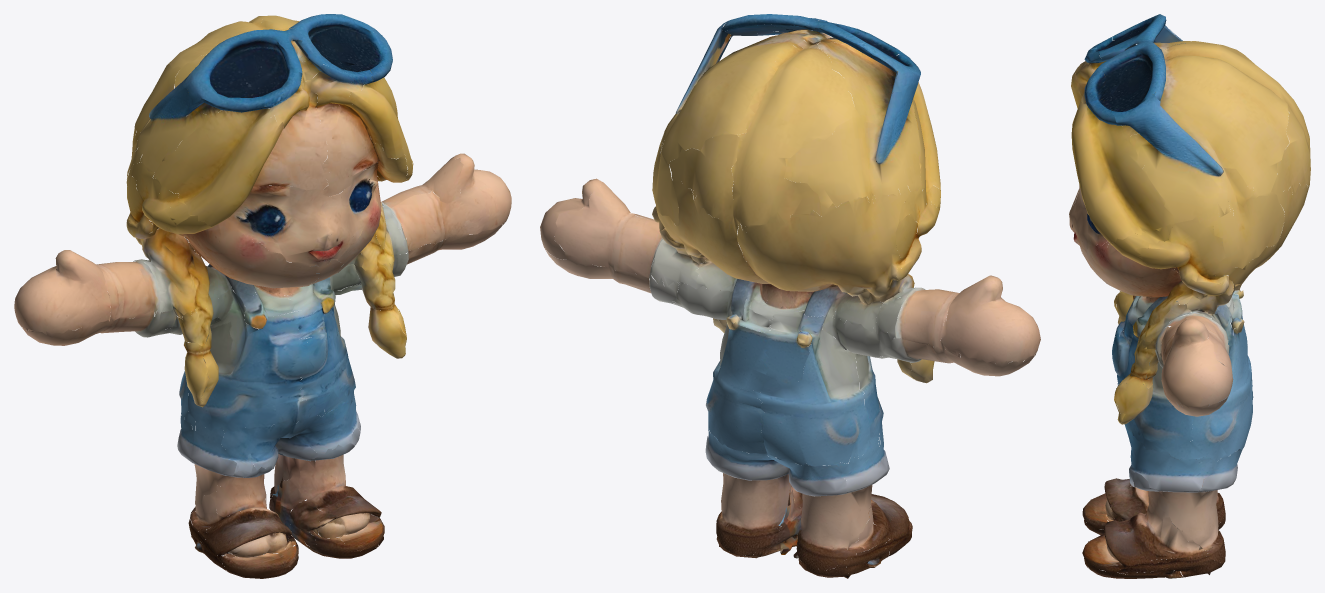
File: kristen.glb
3 views of the same model, side by side, from view 1: azimuth 30°, elevation 25°; view 2: azimuth 150°, elevation 25°; view 3: azimuth 270°, elevation 25° (orthographic). The views are drawn at different scales.
Visible parts, largest first — view 1: kristen; view 2: kristen; view 3: kristen.
Part boxes in pixels (<box>): kristen: <box>14,14,511,578</box>; kristen: <box>540,14,1040,578</box>; kristen: <box>1069,14,1310,578</box>.
Bounding box in the file's own units: 0.9821 × 1 × 0.4302.
Materials: 1 (1 with a texture image).
